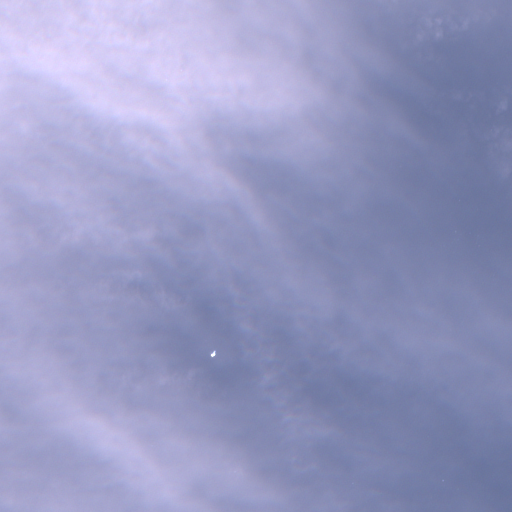Iceberg: (211, 350, 215, 356)
